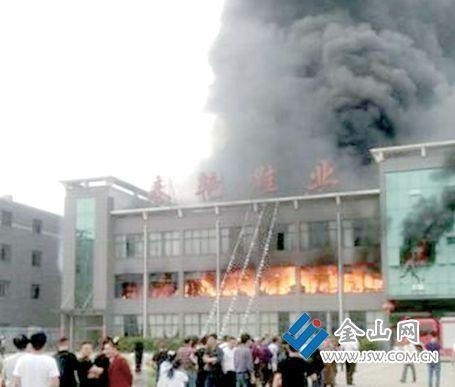fire: (185, 254, 383, 295)
